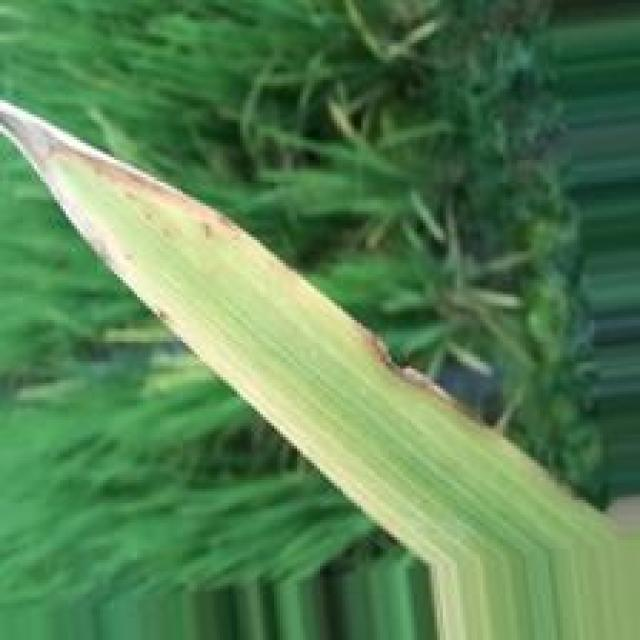Leaf_Scald: (0, 95, 493, 640)
